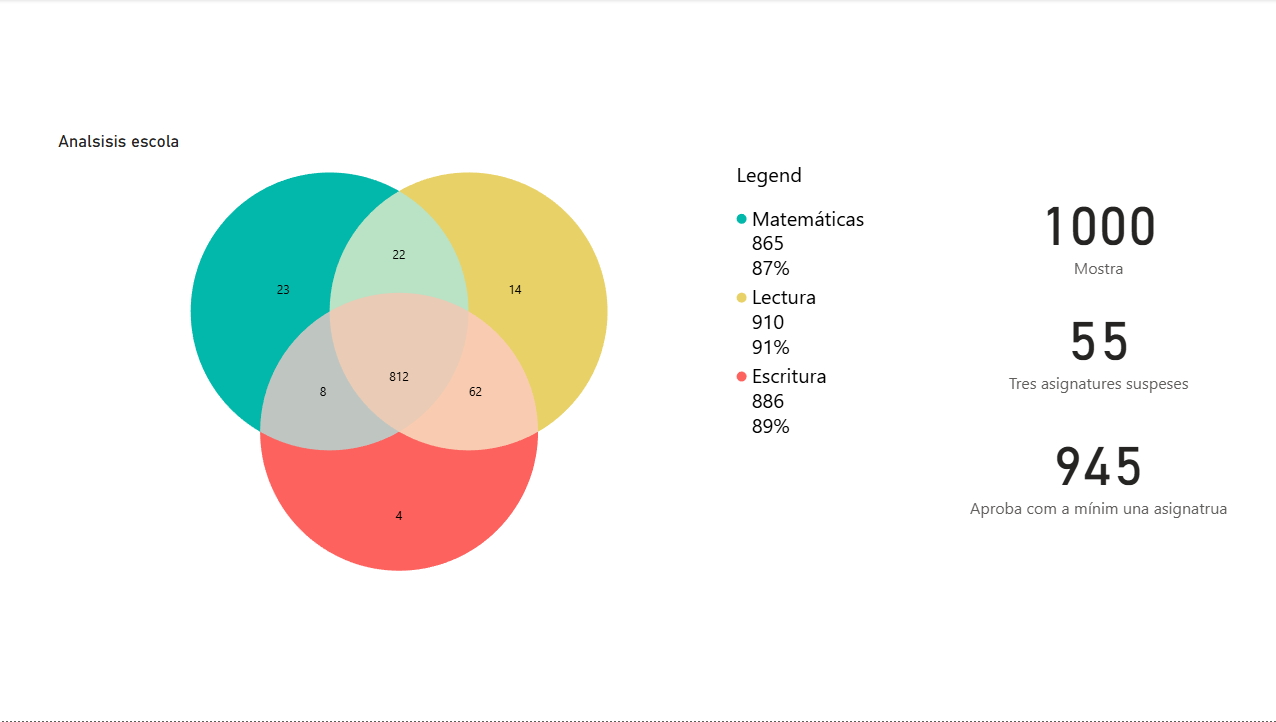

Layout of this report page (visuals, bound fields, positions):
{"tool":"powerbi","page":{"name":"Venn Diagrams","canvas":[1280,720],"ordinal":1},"visuals":[{"type":"vennDiagram8527AJ74DB74562488PCR752UTY9465","title":"Analsisis escola","fields":{"measure":["CountNonNull(Estudiantes.Asig_Aprob)"],"category":["Estudiantes.Aprob_Mat","Estudiantes.Aprob_Lectura","Estudiantes.Aprob_Escritura"]},"box":[58.2,131.6,840.9,549],"z":0},{"type":"card","fields":{"Values":["CountNonNull(Estudiantes.Genero)"]},"box":[923.3,167.5,356.4,124.5],"z":1000},{"type":"card","fields":{"Values":["CountNonNull(Estudiantes.Genero)"]},"box":[923.3,282.1,356.4,124.5],"z":2000},{"type":"card","fields":{"Values":["CountNonNull(Estudiantes.Genero)"]},"box":[923.3,406.6,356.4,124.5],"z":3000}]}

Visuals, with their boxes in screenshot pixels (x1, y1, x2, y2), scaled from the page's 1280x720 canvas onto the 1276x722 screenshot:
"Analsisis escola" vennDiagram8527AJ74DB74562488PCR752UTY9465: x1=58, y1=132, x2=896, y2=682
card - CountNonNull(Estudiantes.Genero): x1=920, y1=168, x2=1275, y2=293
card - CountNonNull(Estudiantes.Genero): x1=920, y1=283, x2=1275, y2=408
card - CountNonNull(Estudiantes.Genero): x1=920, y1=408, x2=1275, y2=533
